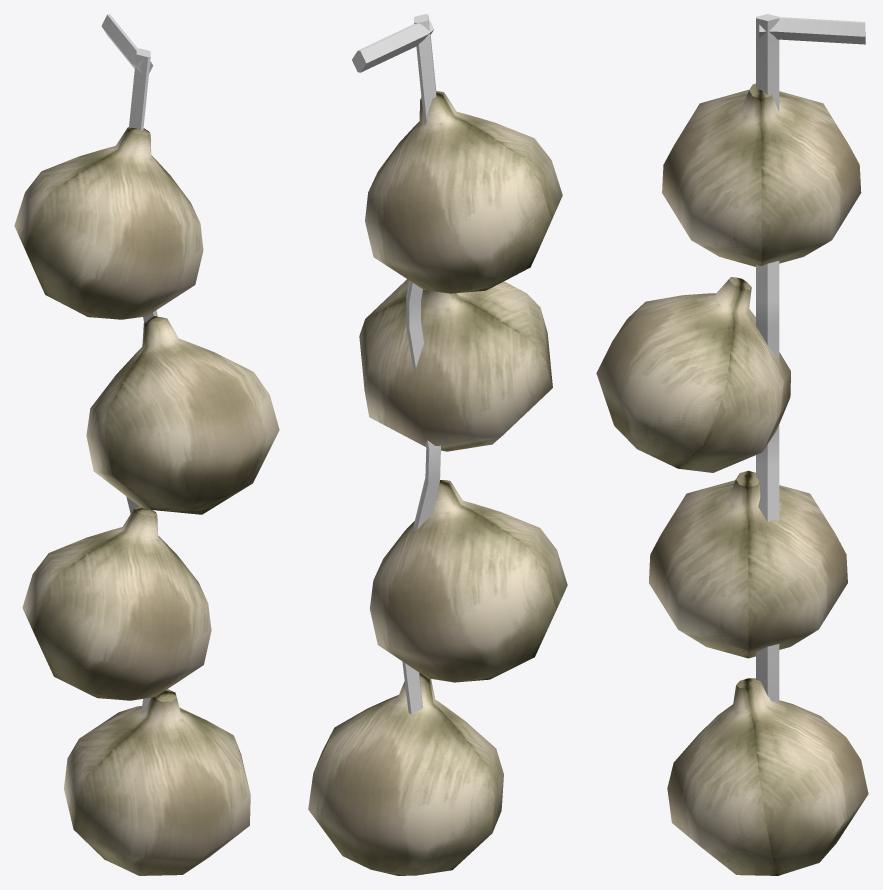
File: Asset_prop_onions decor.FBX
3 views of the same model, side by side, from view 1: azimuth 30°, elevation 25°; view 2: azimuth 150°, elevation 25°; view 3: azimuth 270°, elevation 25° (orthographic). The views are drawn at different scales.
Parts seen in each view (by area): view 1: Sphere002, Sphere003, Sphere001, Sphere004, Cylinder001, Cylinder002; view 2: Sphere003, Sphere001, Sphere004, Sphere002, Cylinder001, Cylinder002; view 3: Sphere004, Sphere003, Sphere002, Sphere001, Cylinder001, Cylinder002.
Part boxes in pixels (x1,y1,x2,y2): Sphere002: [86, 316, 279, 514]; Sphere003: [14, 127, 203, 319]; Sphere001: [22, 507, 211, 700]; Sphere004: [64, 689, 250, 875]; Cylinder001: [126, 48, 157, 711]; Cylinder002: [101, 14, 153, 73]; Sphere003: [365, 91, 562, 293]; Sphere001: [370, 480, 567, 682]; Sphere004: [308, 673, 503, 875]; Sphere002: [359, 279, 552, 451]; Cylinder001: [402, 14, 440, 714]; Cylinder002: [352, 19, 433, 72]; Sphere004: [667, 678, 868, 875]; Sphere003: [662, 83, 861, 266]; Sphere002: [596, 277, 790, 472]; Sphere001: [649, 470, 847, 658]; Cylinder001: [756, 14, 779, 702]; Cylinder002: [759, 17, 865, 44].
Size of the model in its own units: 8.72 by 31.09 by 9.07.
